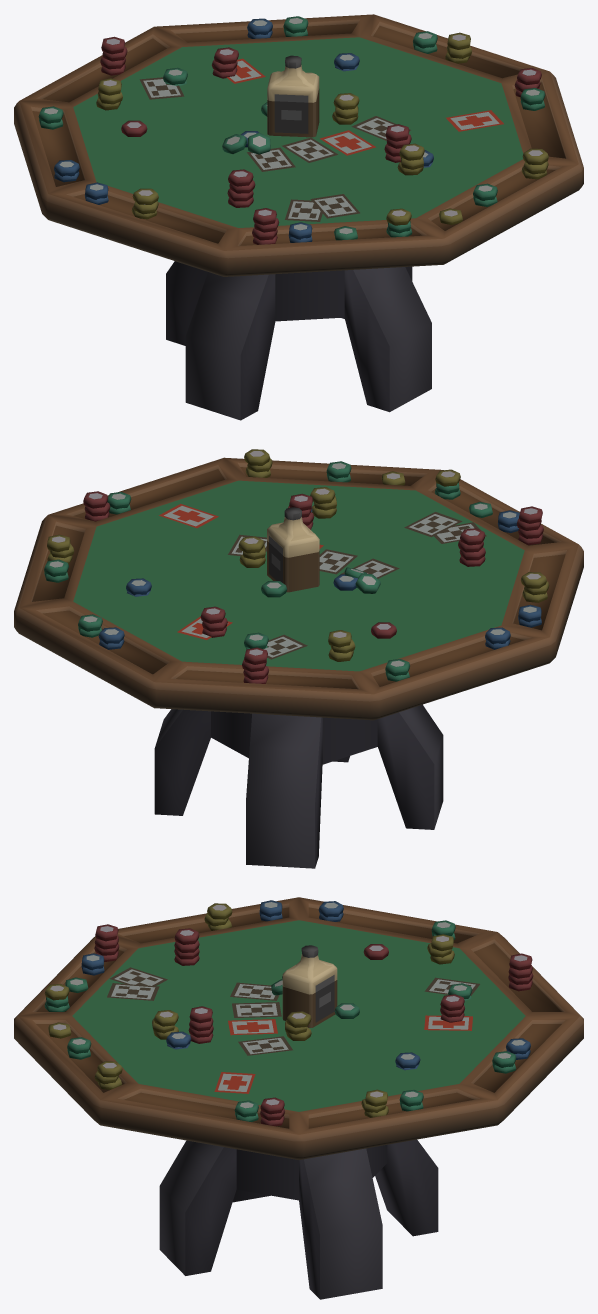
File: PokerTable.fbx
3 renders of one model, top to bottom at view 1: azimuth 30°, elevation 25°; view 2: azimuth 150°, elevation 25°; view 3: azimuth 270°, elevation 25°, orthographic. The views are drawn at different scales.
Parts seen in each view (by area): view 1: PokerTable; view 2: PokerTable; view 3: PokerTable.
Boxes of the visible parts, x1,y1,x2,y2 form: PokerTable: [14, 14, 583, 420]; PokerTable: [14, 449, 583, 868]; PokerTable: [14, 897, 583, 1299].
Bounding box in the file's own units: 227 × 128 × 227.
